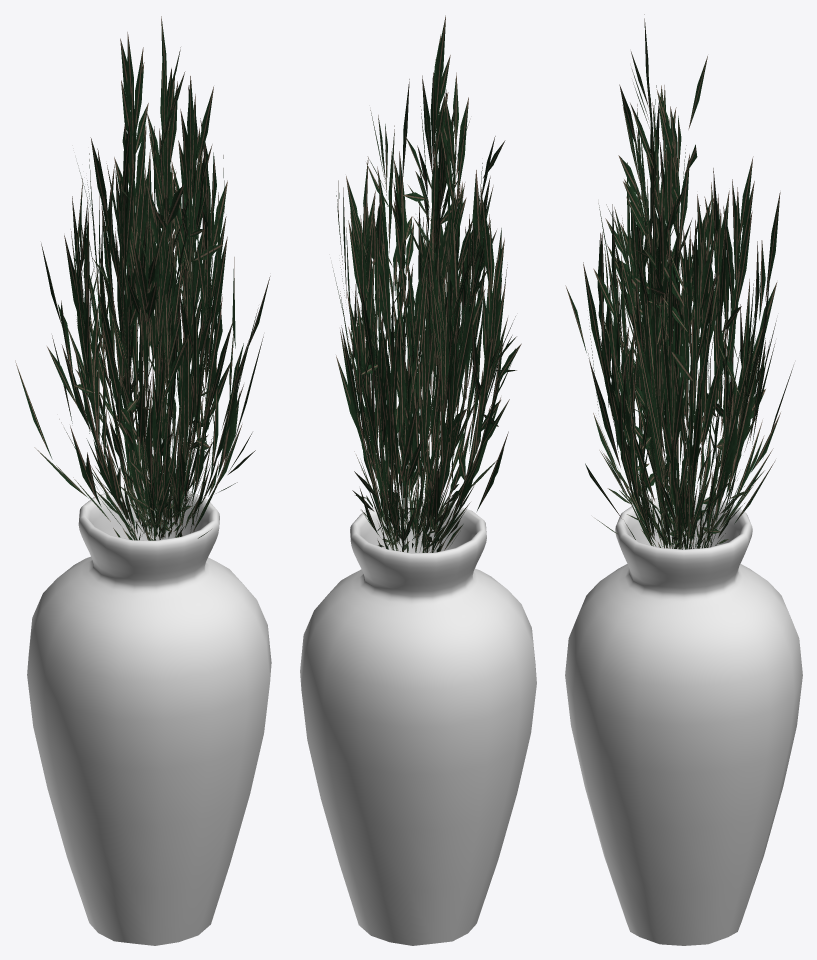
The model's file is vase.fbx.
3 renders of one model, left to right at view 1: azimuth 30°, elevation 25°; view 2: azimuth 150°, elevation 25°; view 3: azimuth 270°, elevation 25°, orthographic. The views are drawn at different scales.
Parts seen in each view (by area): view 1: Cube, leaves; view 2: Cube, leaves; view 3: Cube, leaves.
Part boxes in pixels (<box>): Cube: <box>27,485,271,945</box>; leaves: <box>15,16,270,540</box>; Cube: <box>300,499,536,945</box>; leaves: <box>332,15,521,552</box>; Cube: <box>565,496,802,945</box>; leaves: <box>565,14,793,549</box>.
Size of the model in its own units: 149 by 621 by 148.
